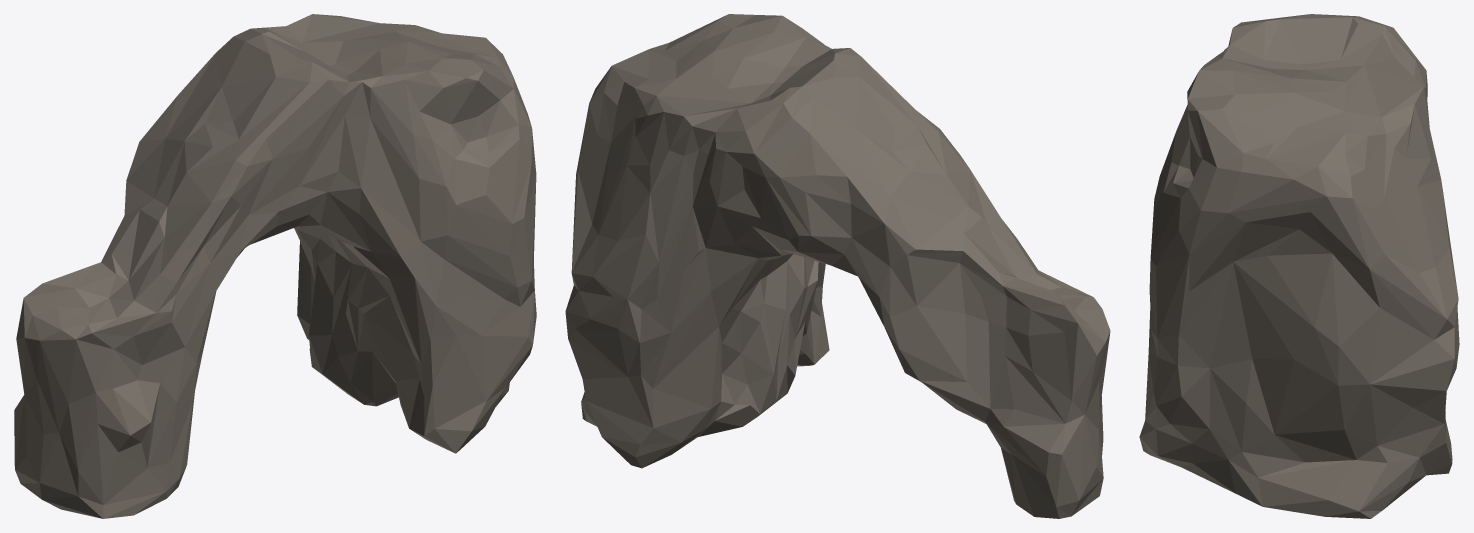
Rendered from SM_Env_Rock_Arch_01.fbx.
3 views of the same model, side by side, from view 1: azimuth 30°, elevation 25°; view 2: azimuth 150°, elevation 25°; view 3: azimuth 270°, elevation 25° (orthographic). The views are drawn at different scales.
Visible parts, largest first — view 1: SM_Env_Rock_Arch_01; view 2: SM_Env_Rock_Arch_01; view 3: SM_Env_Rock_Arch_01.
Boxes of the visible parts, x1=… form: SM_Env_Rock_Arch_01: x1=14, y1=14, x2=536, y2=518; SM_Env_Rock_Arch_01: x1=565, y1=14, x2=1110, y2=518; SM_Env_Rock_Arch_01: x1=1139, y1=14, x2=1459, y2=518.
Size of the model in its own units: 10.41 by 7.77 by 5.59.
